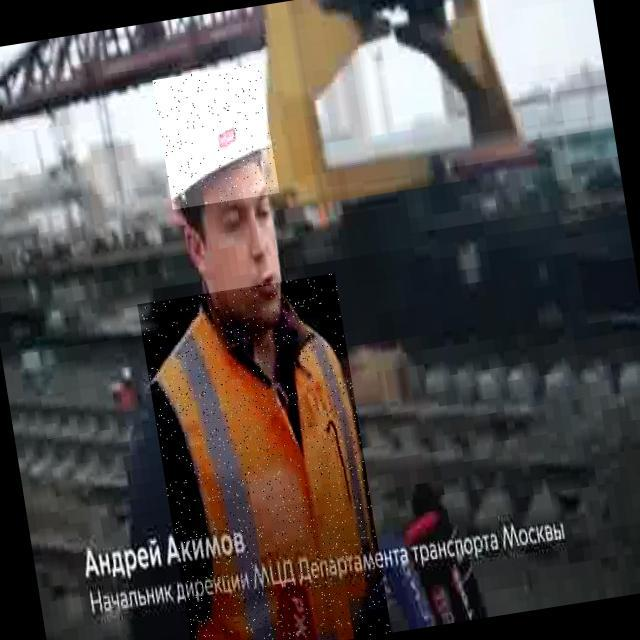Helmet: (153, 64, 280, 211)
Safety Vest: (138, 273, 392, 640)
